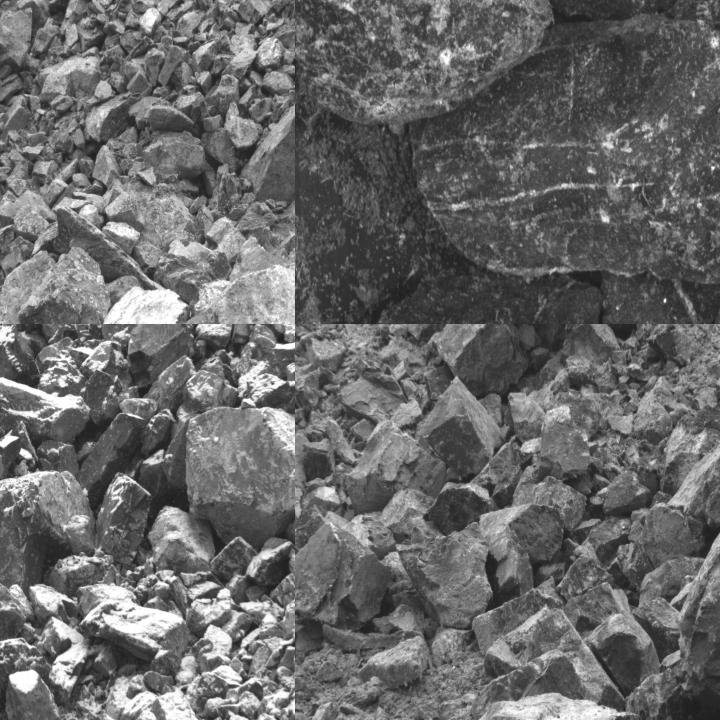stone: (408, 15, 719, 286), (295, 0, 553, 125), (635, 522, 719, 719), (349, 267, 610, 323), (185, 406, 294, 537), (483, 607, 626, 706), (0, 471, 96, 590), (396, 516, 493, 628), (295, 522, 392, 632), (30, 209, 160, 288), (345, 419, 448, 517), (106, 178, 207, 274), (415, 376, 505, 482), (478, 503, 564, 602), (473, 653, 598, 719), (79, 585, 186, 658), (175, 258, 294, 323), (473, 576, 565, 655), (17, 246, 111, 323), (436, 324, 534, 394), (625, 504, 703, 590), (601, 270, 719, 323), (593, 612, 667, 694), (0, 377, 90, 444), (79, 414, 141, 500), (513, 467, 585, 536), (98, 475, 154, 563), (154, 241, 231, 304), (40, 620, 90, 702), (125, 324, 191, 385), (670, 444, 719, 526), (427, 482, 498, 536), (84, 87, 150, 143), (358, 635, 428, 687), (564, 583, 631, 636), (556, 542, 614, 603), (151, 510, 213, 566), (89, 288, 187, 323), (638, 556, 706, 606), (541, 407, 591, 474), (184, 356, 239, 414), (37, 52, 102, 101), (633, 598, 680, 660), (144, 356, 195, 413), (606, 462, 660, 515), (238, 361, 294, 412), (143, 133, 204, 178), (6, 671, 62, 719), (381, 490, 432, 542), (0, 639, 48, 693), (246, 535, 294, 588), (560, 324, 620, 366), (469, 443, 514, 498), (201, 126, 248, 174), (207, 537, 256, 583), (192, 620, 233, 674), (342, 514, 395, 555), (0, 6, 32, 72), (504, 393, 545, 442), (36, 359, 84, 397), (106, 127, 143, 176), (84, 371, 118, 424), (324, 417, 357, 467), (153, 688, 203, 719), (139, 412, 175, 454), (102, 220, 142, 256), (302, 438, 335, 481), (491, 466, 523, 508), (14, 206, 52, 241), (307, 338, 344, 373), (222, 47, 259, 81), (206, 76, 240, 112), (81, 341, 115, 377), (226, 116, 264, 148), (158, 46, 188, 86), (93, 145, 119, 189), (304, 486, 343, 514), (195, 324, 233, 350), (192, 39, 220, 74), (119, 395, 158, 420), (174, 92, 207, 121), (256, 37, 283, 70), (144, 48, 166, 88), (97, 324, 141, 344), (295, 433, 310, 487), (263, 70, 294, 95), (138, 6, 160, 40), (239, 0, 270, 24), (480, 394, 503, 425), (152, 650, 178, 677), (171, 63, 193, 93), (228, 33, 256, 56), (390, 400, 420, 421), (251, 324, 288, 339), (309, 700, 335, 719), (42, 324, 63, 343), (24, 324, 57, 333), (93, 0, 121, 10), (134, 0, 167, 7)
